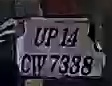1: (62, 26, 67, 48)
3: (59, 53, 70, 75)
4: (67, 26, 80, 50)
7: (49, 52, 59, 74)
8: (81, 55, 94, 75), (70, 54, 82, 75)
C: (19, 53, 30, 76)
P: (46, 27, 59, 49)
U: (32, 25, 47, 47)
W: (30, 52, 47, 77)
